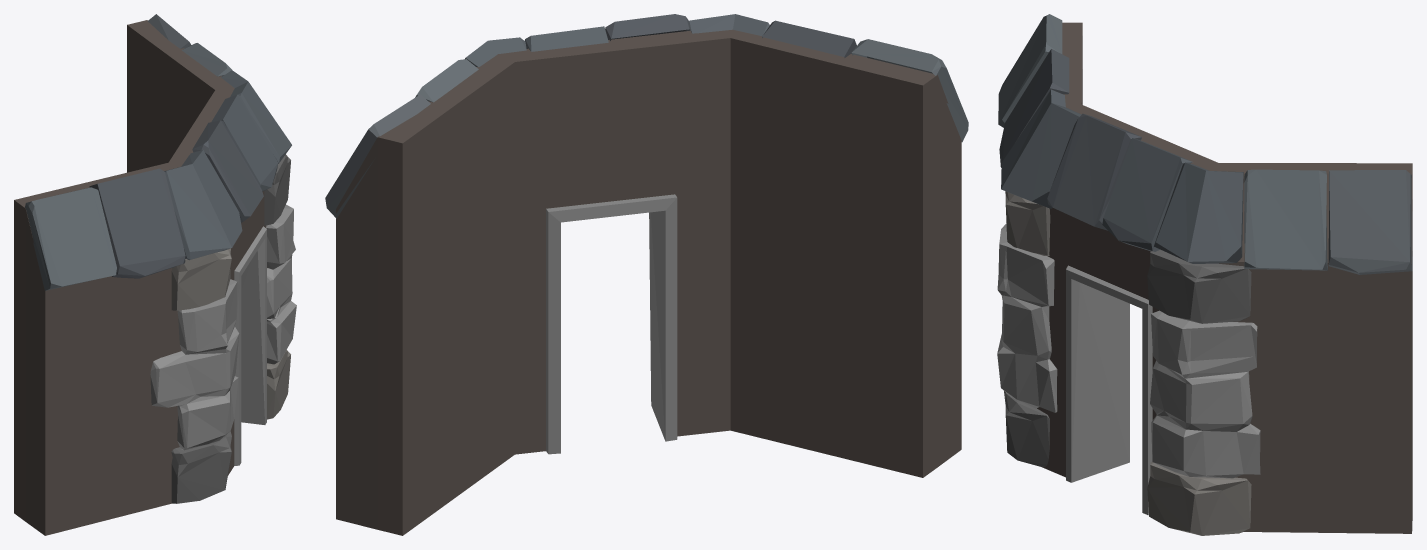
The model's file is MCastle_OctWalls_SlateBase_Door.FBX.
The picture shows the model from 3 angles, left to right: view 1: azimuth 30°, elevation 25°; view 2: azimuth 150°, elevation 25°; view 3: azimuth 270°, elevation 25°; orthographic projection. The views are drawn at different scales.
Visible parts, largest first — view 1: MCastle_OctWalls_SlateBase_LOD0; view 2: MCastle_OctWalls_SlateBase_LOD0; view 3: MCastle_OctWalls_SlateBase_LOD0.
Part boxes in pixels (x1,y1,x2,y2): MCastle_OctWalls_SlateBase_LOD0: [14, 14, 296, 535]; MCastle_OctWalls_SlateBase_LOD0: [325, 14, 968, 535]; MCastle_OctWalls_SlateBase_LOD0: [997, 14, 1412, 535].
Size of what is drawn, in the model's own units: 4.92 by 4.63 by 4.91.
